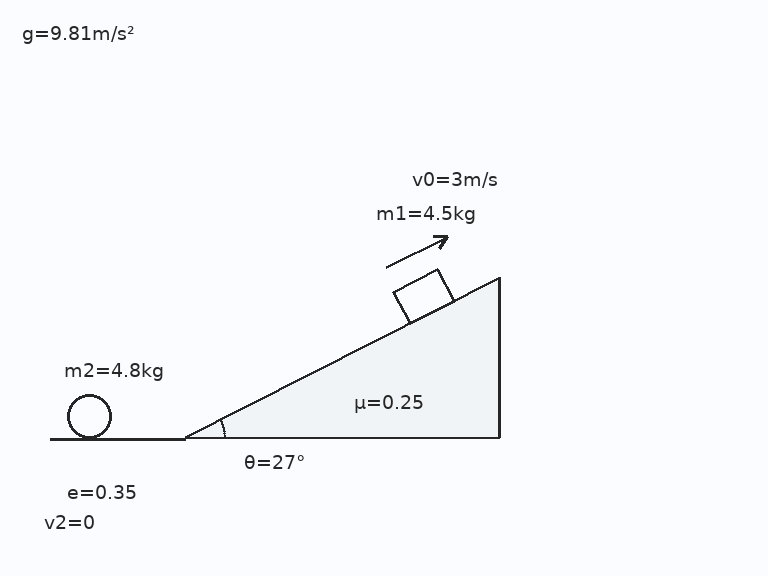ball: (65, 392, 113, 440)
block: (392, 267, 455, 325)
ramp: (183, 276, 501, 440)
